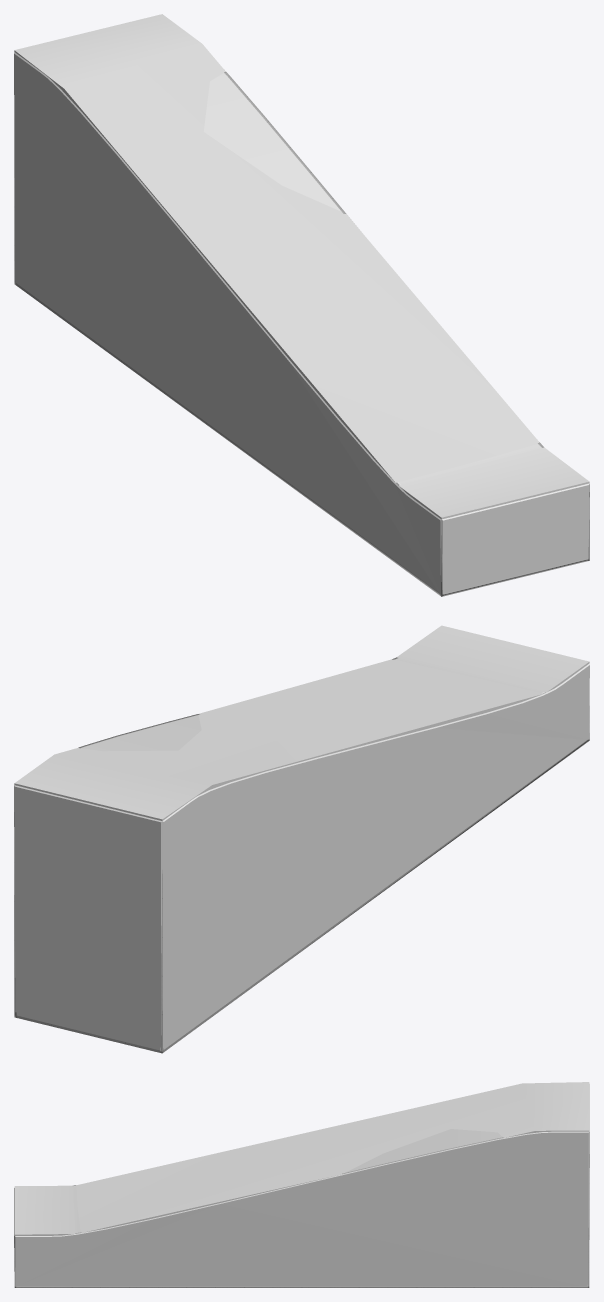
Rendered from s_gm_slope_15.dae.
The picture shows the model from 3 angles, top to bottom: view 1: azimuth 30°, elevation 25°; view 2: azimuth 150°, elevation 25°; view 3: azimuth 270°, elevation 25°; orthographic projection. The views are drawn at different scales.
Parts seen in each view (by area): view 1: Colmesh_slope_15-1, slope_15__a80, slope_15__a800; view 2: Colmesh_slope_15-1, slope_15__a80, slope_15__a800; view 3: Colmesh_slope_15-1, slope_15__a80, slope_15__a800.
Boxes of the visible parts, x1=… form: Colmesh_slope_15-1: x1=14, y1=52, x2=589, y2=594; slope_15__a80: x1=14, y1=14, x2=589, y2=519; slope_15__a800: x1=14, y1=71, x2=589, y2=596; Colmesh_slope_15-1: x1=14, y1=658, x2=589, y2=1050; slope_15__a80: x1=14, y1=625, x2=589, y2=820; slope_15__a800: x1=14, y1=657, x2=589, y2=1053; Colmesh_slope_15-1: x1=14, y1=1083, x2=589, y2=1286; slope_15__a80: x1=14, y1=1082, x2=589, y2=1235; slope_15__a800: x1=14, y1=1131, x2=589, y2=1287.
Bounding box in the file's own units: 8.1 × 40.1 × 12.09.
